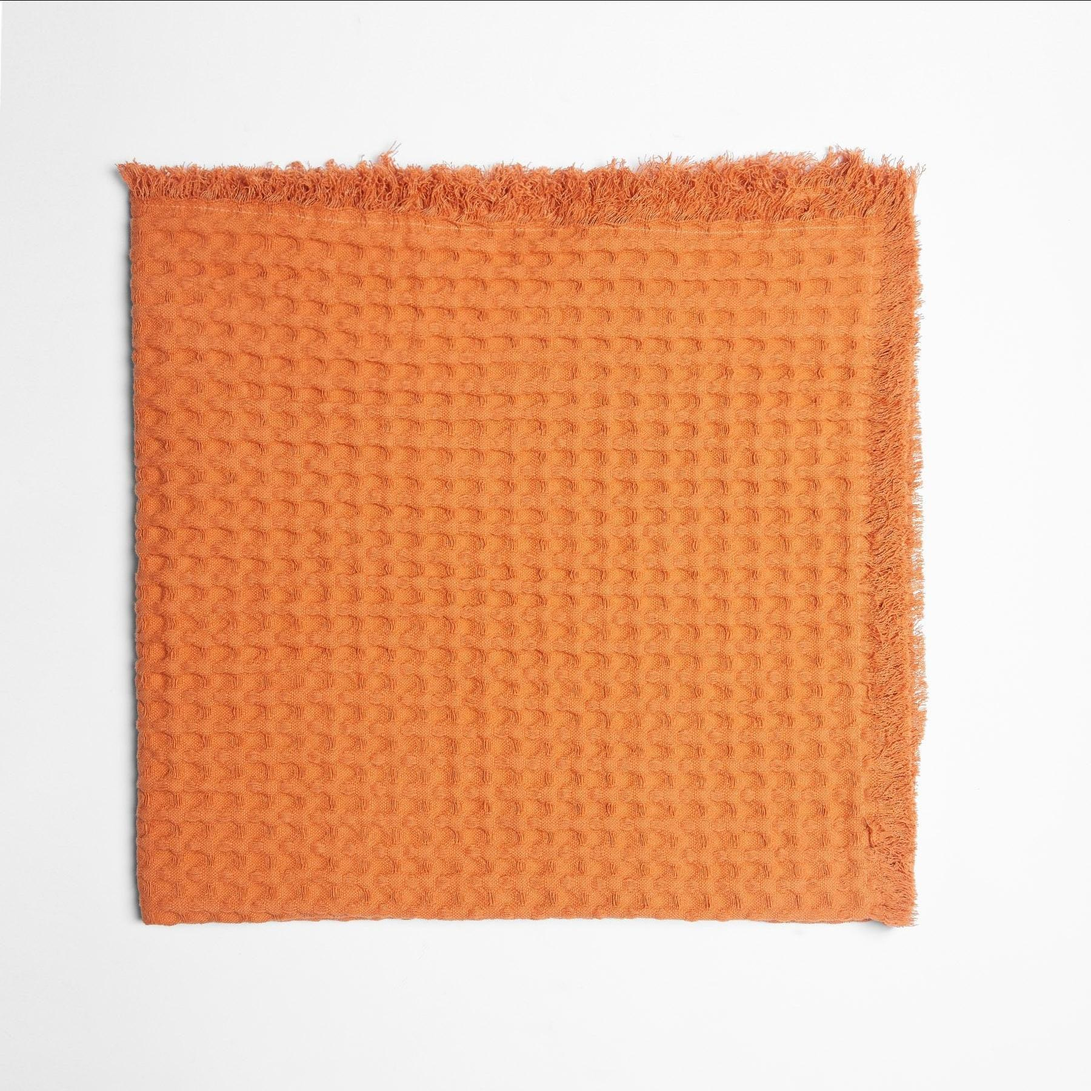Towel: (124, 173, 918, 915)
